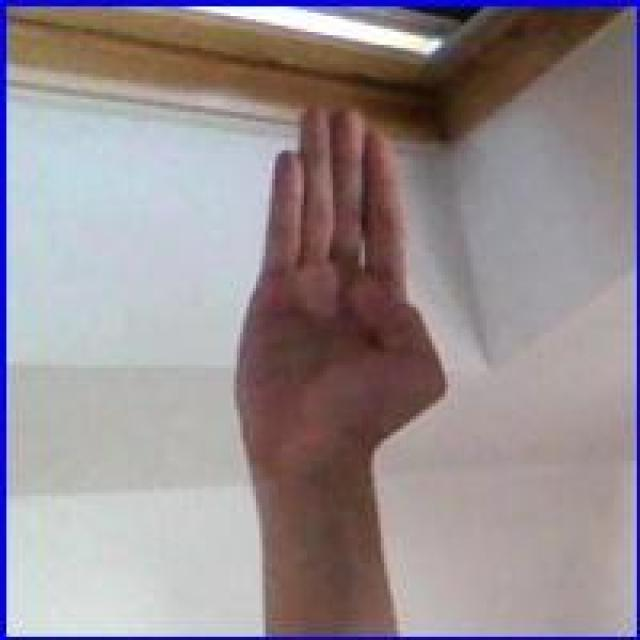B: (228, 102, 450, 516)
